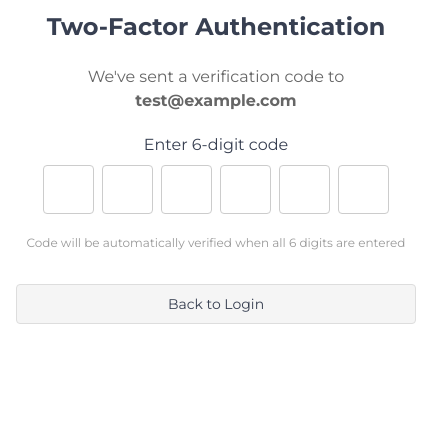
Test case: TwoFactorAuthPage › Failed 2FA verification › should clear the code input on error to allow retry
In the 1st field: (68, 189) [43,165,94,214], type "1"
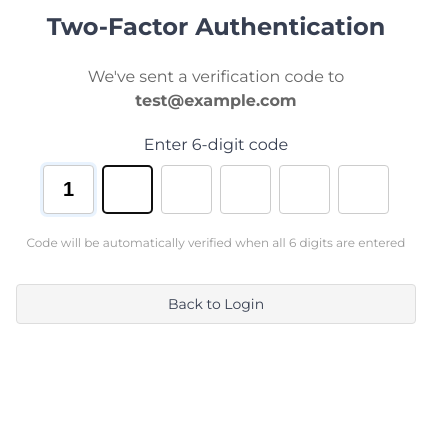
In the 2nd field: (128, 189) [102,165,153,214], type "1"
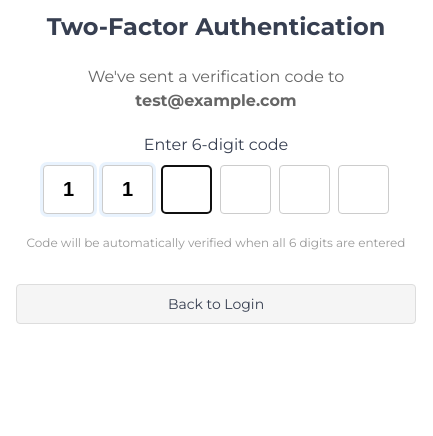
In the 3rd field: (186, 189) [161,165,212,214], type "1"
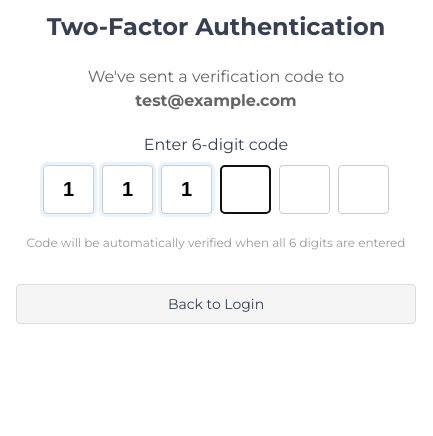
In the 4th field: (246, 189) [220,165,271,214], type "1"
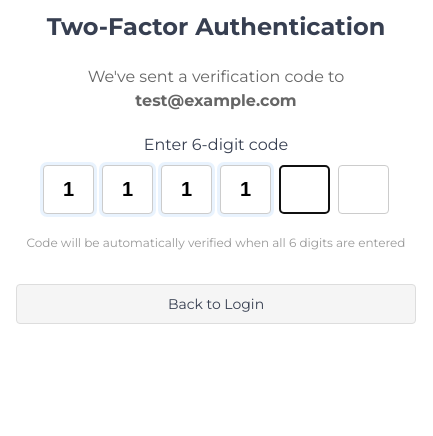
In the 5th field: (304, 189) [279,165,330,214], type "1"
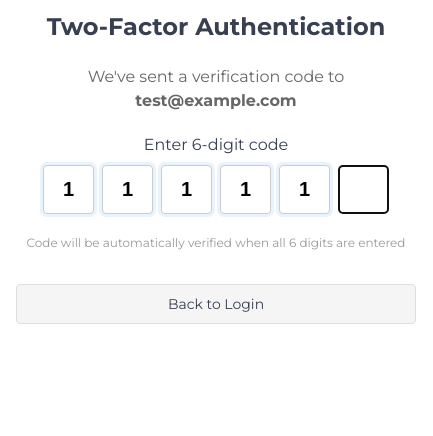
In the 6th field: (364, 189) [338,165,389,214], type "1"
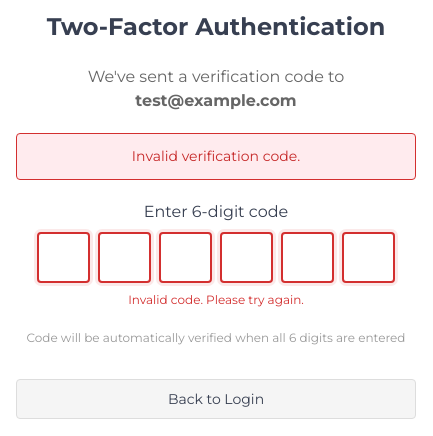
Now the text "Invalid verification code." is shown, box [16,133,416,180]
Now the 1st field is empty, box [37,232,90,283]
Now the 2nd field is empty, box [98,232,151,283]
